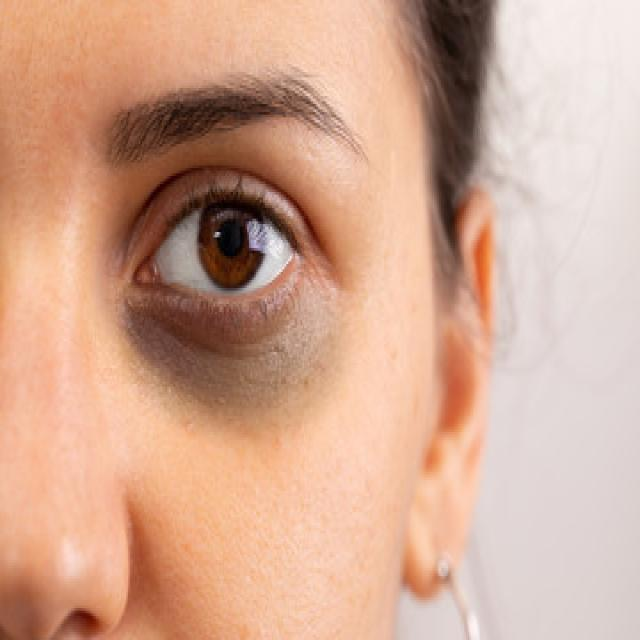Eyebags: (125, 275, 321, 411)
